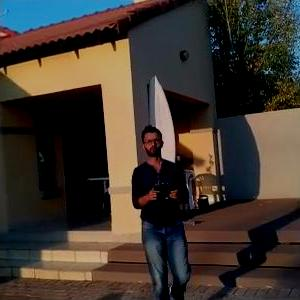follow: (129, 120, 194, 298)
